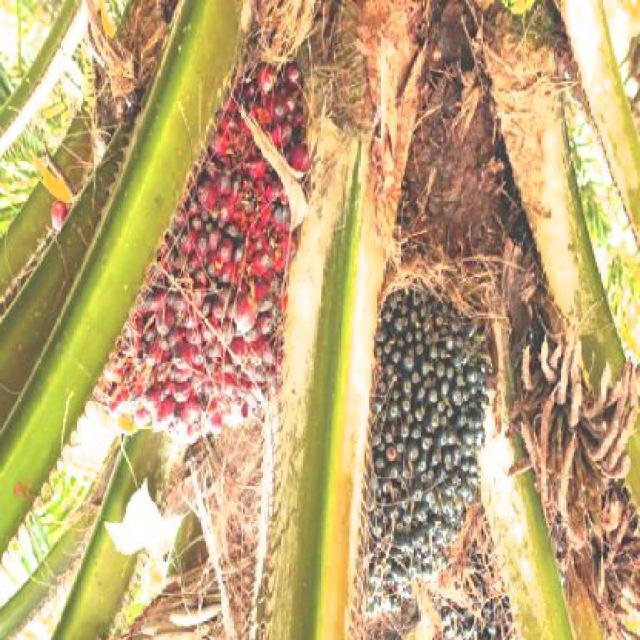palm-oil: (73, 21, 320, 433), (364, 260, 510, 614)
